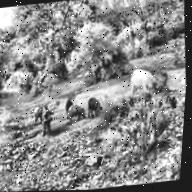boar: (124, 59, 160, 103), (65, 101, 95, 128), (38, 104, 56, 134), (84, 92, 100, 117), (65, 96, 71, 107)
